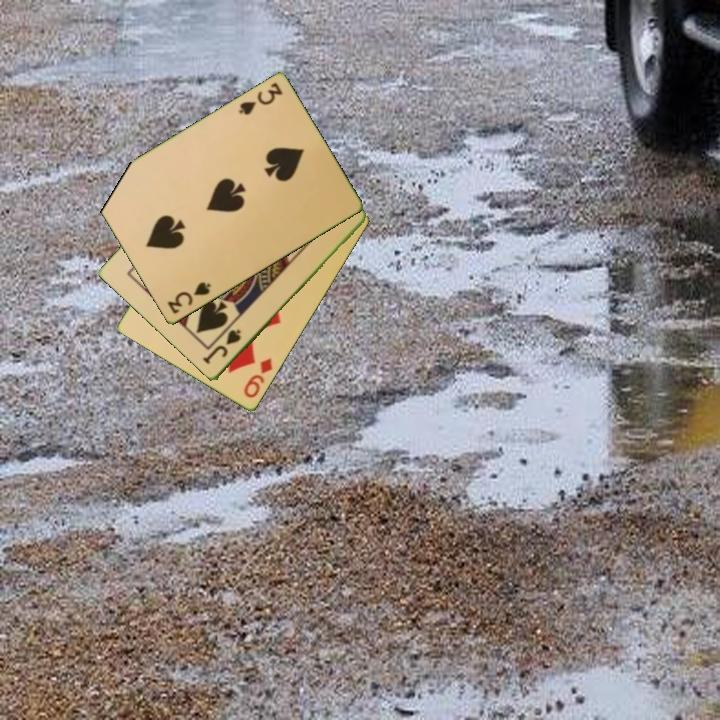3s: (235, 79, 285, 119), (164, 279, 214, 317)
9d: (240, 354, 276, 401)
Js: (200, 326, 244, 367)
